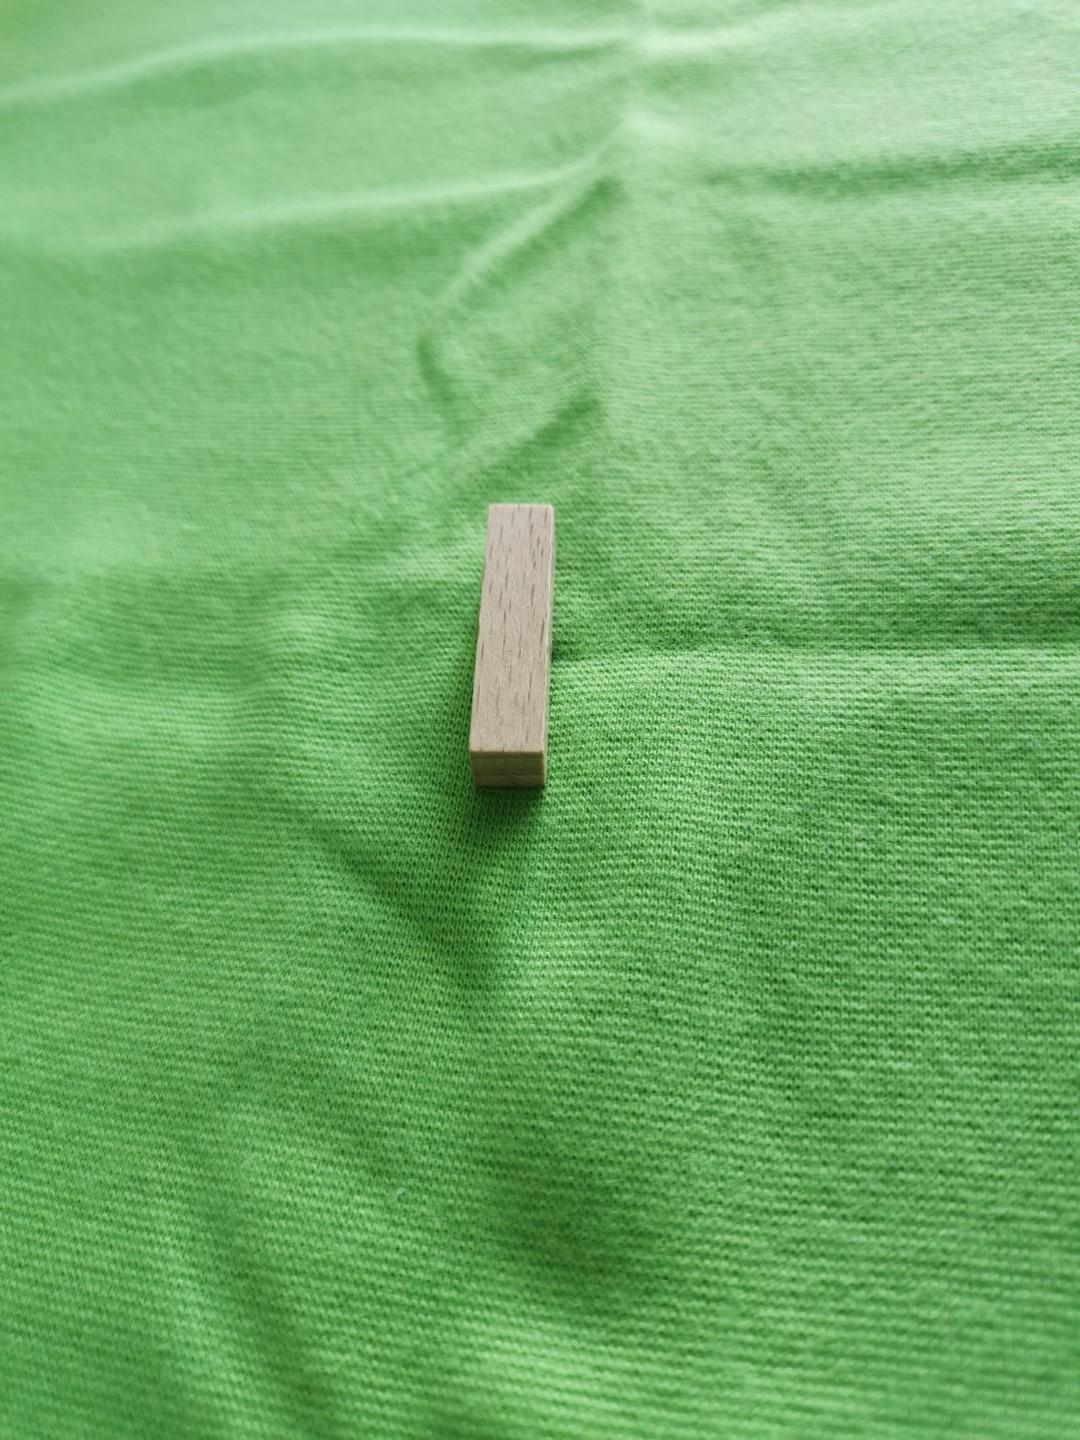jenga: (469, 503, 552, 787)
